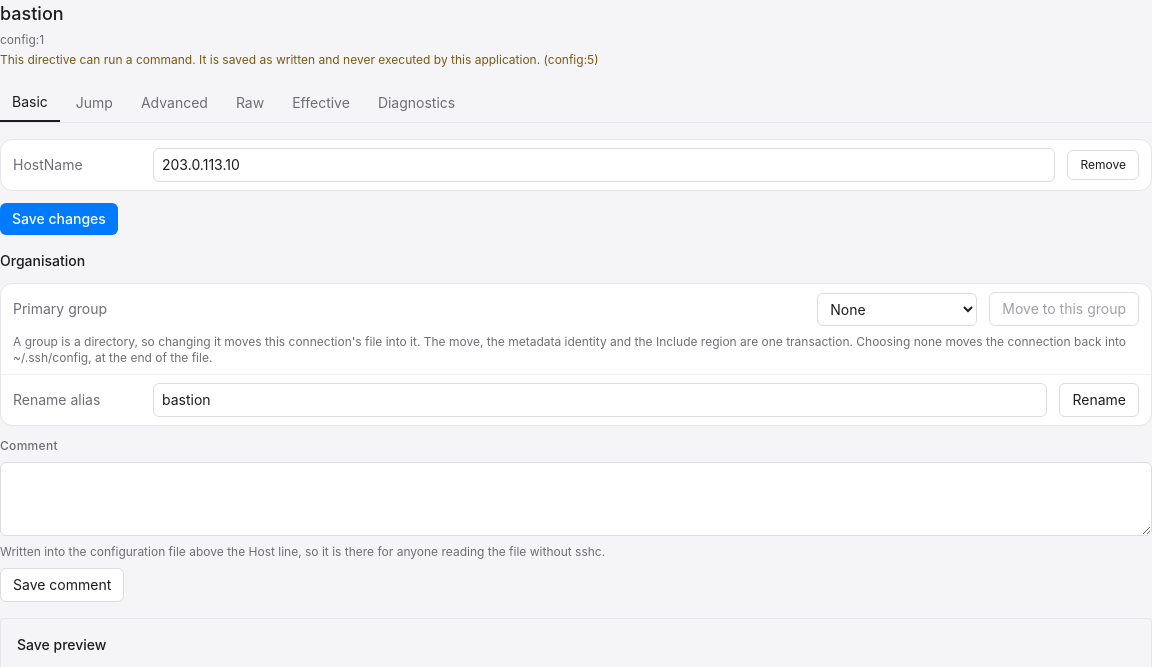
HostDetailPanel › shows basic fields first and keeps unknown directives editable
The image size is (1152, 667).
Expected: the field labelled "HostName" holds "203.0.113.10", [153,148,1056,182]
Click the tab "Advanced" at (174, 103), box [129,84,220,122]
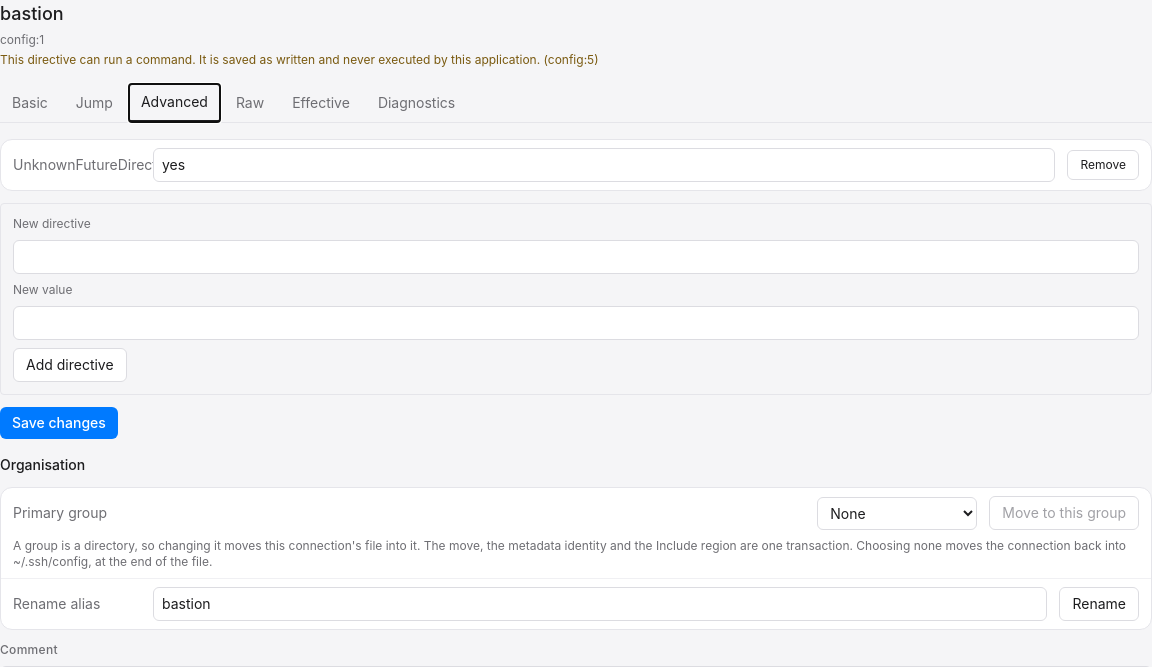
Now the field labelled "UnknownFutureDirective" holds "yes", box [153,148,1056,182]
